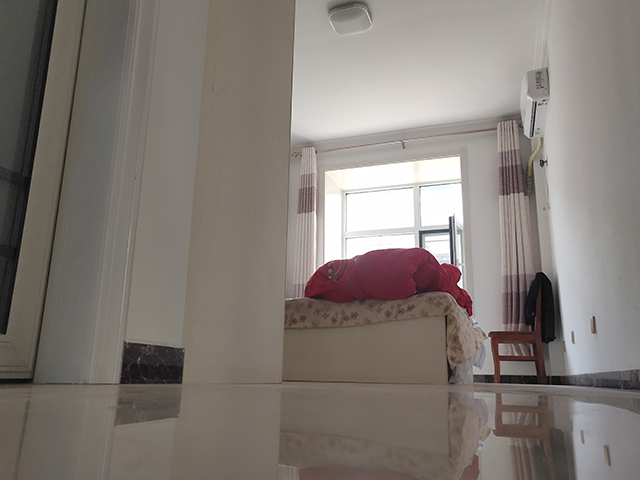bed: (283, 289, 489, 387)
cabinet: (181, 1, 297, 386)
curtain: (495, 119, 537, 356), (297, 144, 314, 293)
stool: (487, 278, 550, 385)
